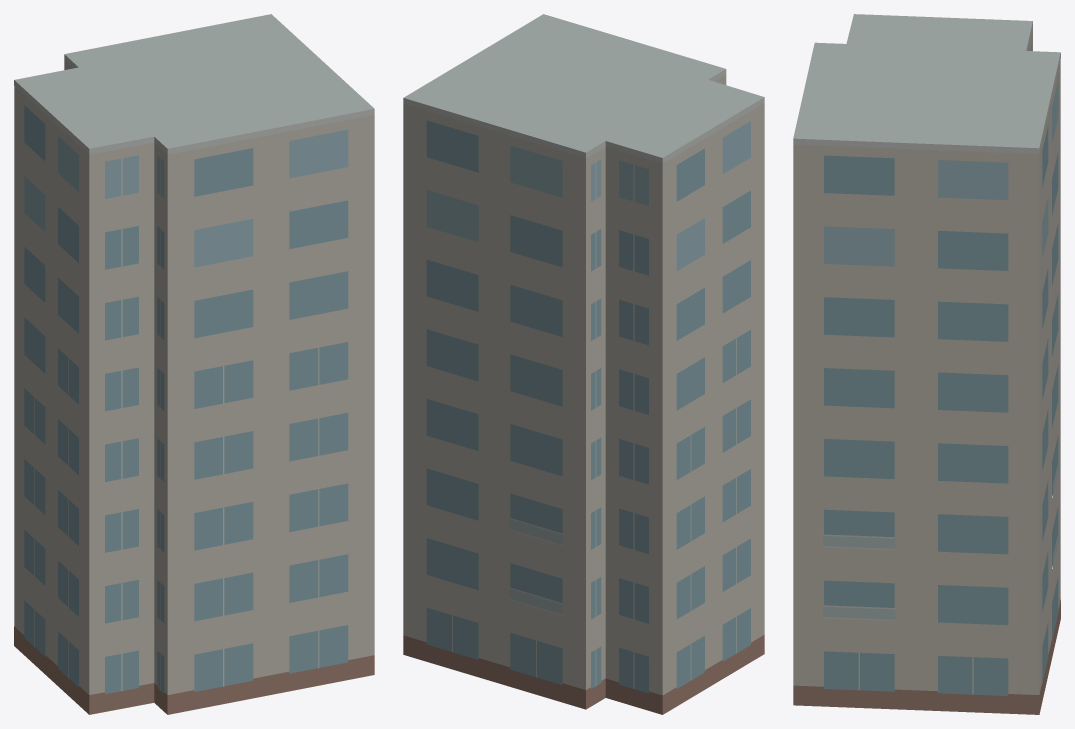
The model's file is survey-upis-32576019.glb.
3 views of the same model, side by side, from view 1: azimuth 30°, elevation 25°; view 2: azimuth 150°, elevation 25°; view 3: azimuth 270°, elevation 25° (orthographic).
Parts seen in each view (by area): view 1: survey-upis-32576019.tmp; view 2: survey-upis-32576019.tmp; view 3: survey-upis-32576019.tmp.
Part boxes in pixels (<box>): survey-upis-32576019.tmp: <box>14,14,374,714</box>; survey-upis-32576019.tmp: <box>403,14,764,714</box>; survey-upis-32576019.tmp: <box>793,14,1060,714</box>.
Bounding box in the file's own units: 11.94 × 23.5 × 10.07.
